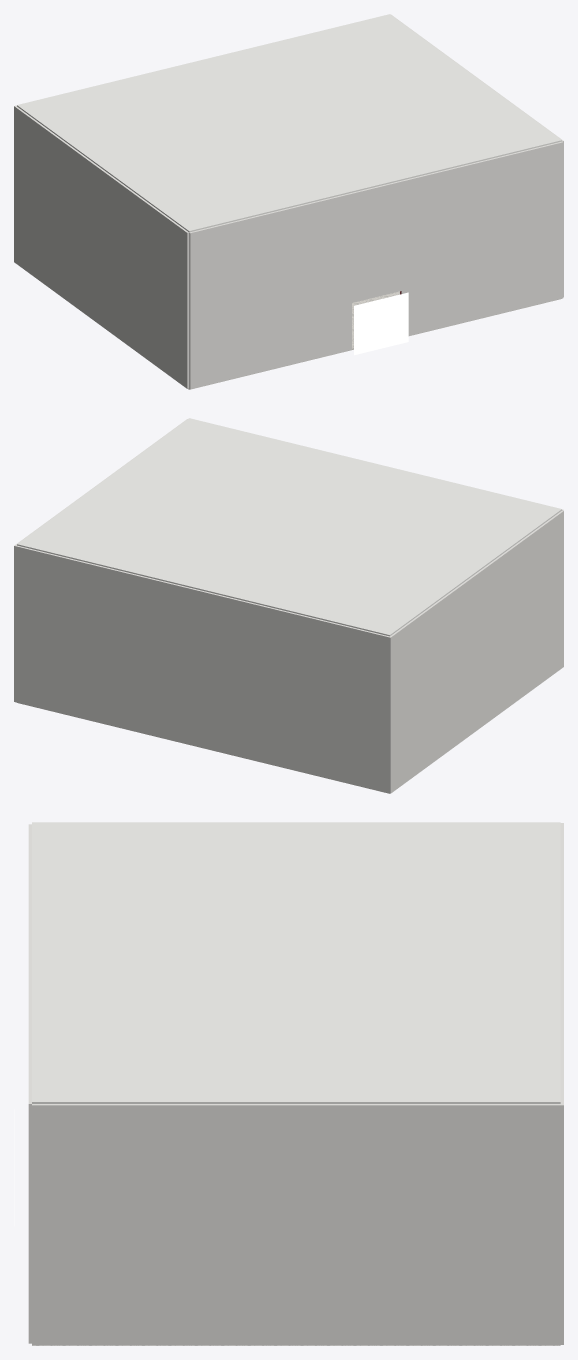
Rendered from room_mall_avinashi.glb.
The picture shows the model from 3 angles, top to bottom: view 1: azimuth 30°, elevation 25°; view 2: azimuth 150°, elevation 25°; view 3: azimuth 270°, elevation 25°; orthographic projection. The views are drawn at different scales.
Parts seen in each view (by area): view 1: Room; view 2: Room; view 3: Room.
Part boxes in pixels (x1,y1,x2,y2): Room: [14, 14, 563, 389]; Room: [14, 418, 563, 793]; Room: [14, 822, 563, 1345].
Size of the model in its own units: 30.3 by 12.79 by 24.96.
45 materials, 3 textured.
